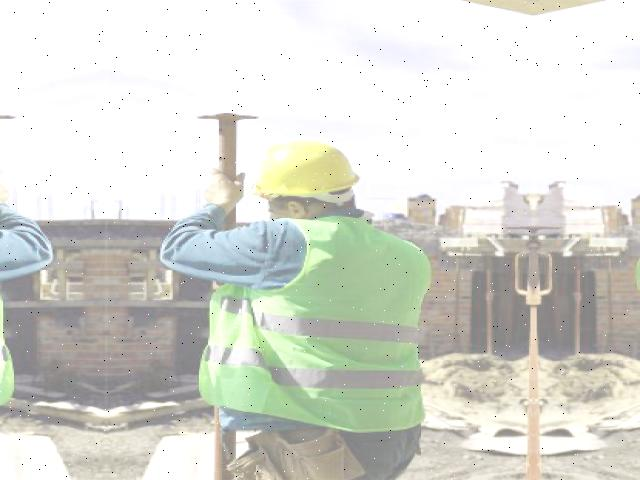Helmet: (244, 134, 366, 210)
